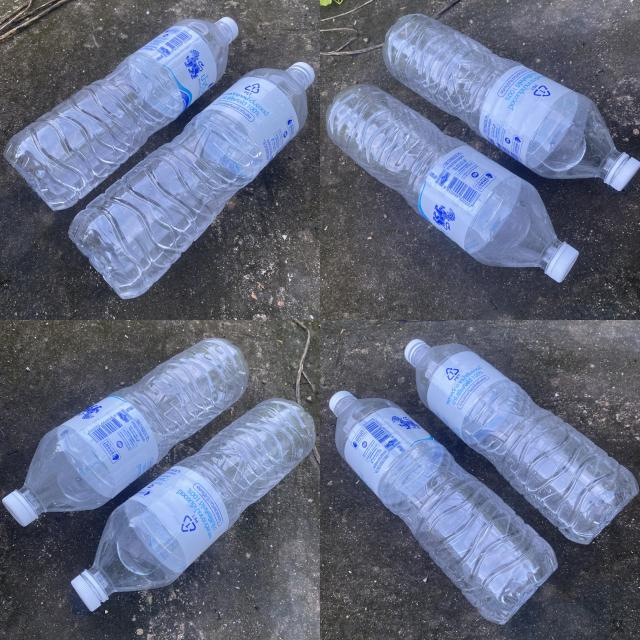plastik: (69, 62, 314, 298), (329, 391, 558, 623), (71, 399, 315, 611), (326, 85, 579, 282), (405, 339, 639, 544), (2, 339, 249, 526), (382, 14, 640, 190), (4, 18, 239, 210)
